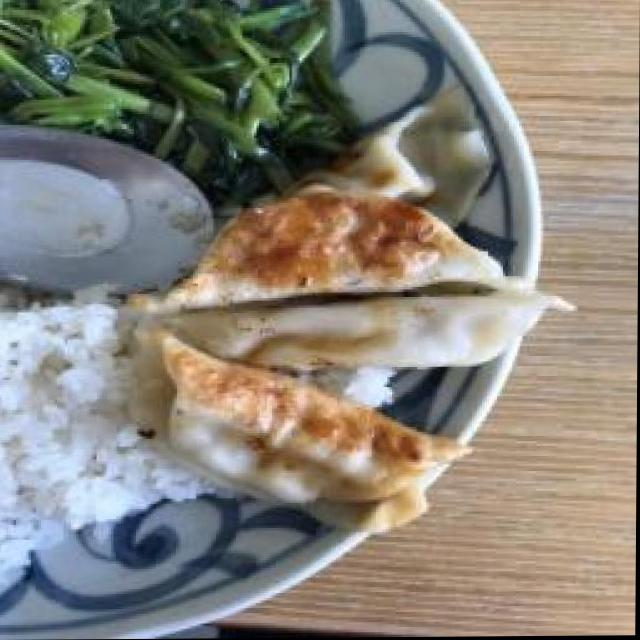fried_dumplings: (147, 99, 499, 499)
rice: (0, 282, 144, 523)
water_spinach: (2, 1, 323, 133)
